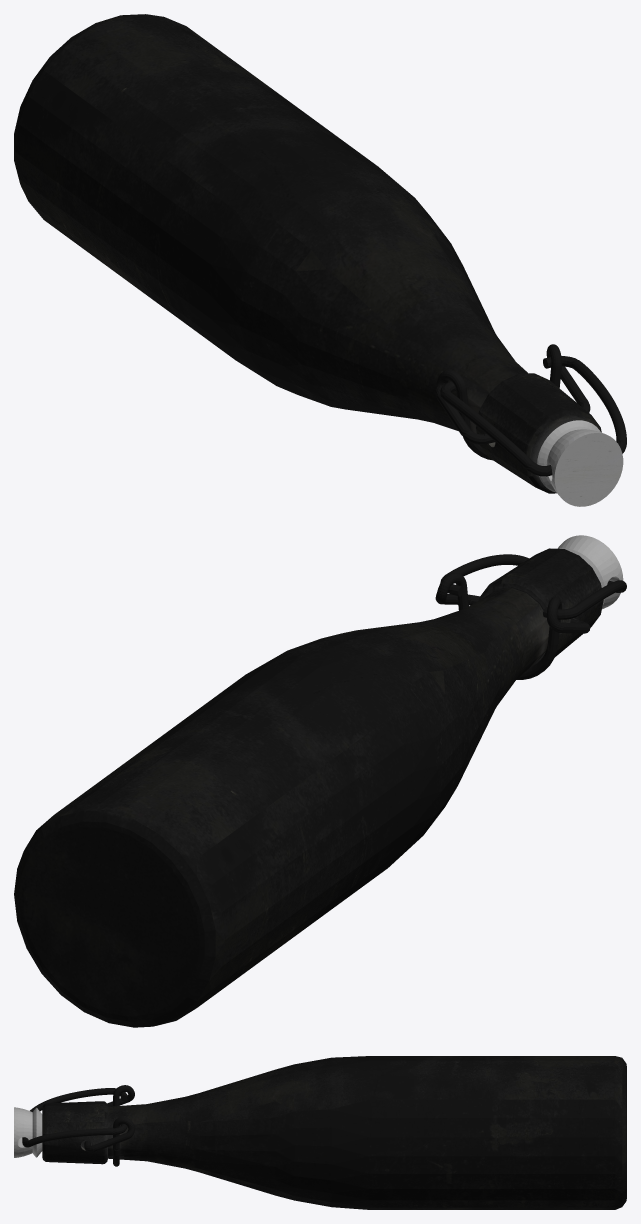
The model's file is glass_bottle.glb.
3 renders of one model, top to bottom at view 1: azimuth 30°, elevation 25°; view 2: azimuth 150°, elevation 25°; view 3: azimuth 270°, elevation 25°, orthographic. The views are drawn at different scales.
Parts seen in each view (by area): view 1: Glass Bottle; view 2: Glass Bottle; view 3: Glass Bottle.
Boxes of the visible parts, x1,y1,x2,y2 form: Glass Bottle: (14, 14, 626, 506); Glass Bottle: (14, 535, 626, 1027); Glass Bottle: (14, 1056, 626, 1209).
Size of the model in its own units: 0.0657 by 0.0659 by 0.2617.
1 material, 1 textured.
